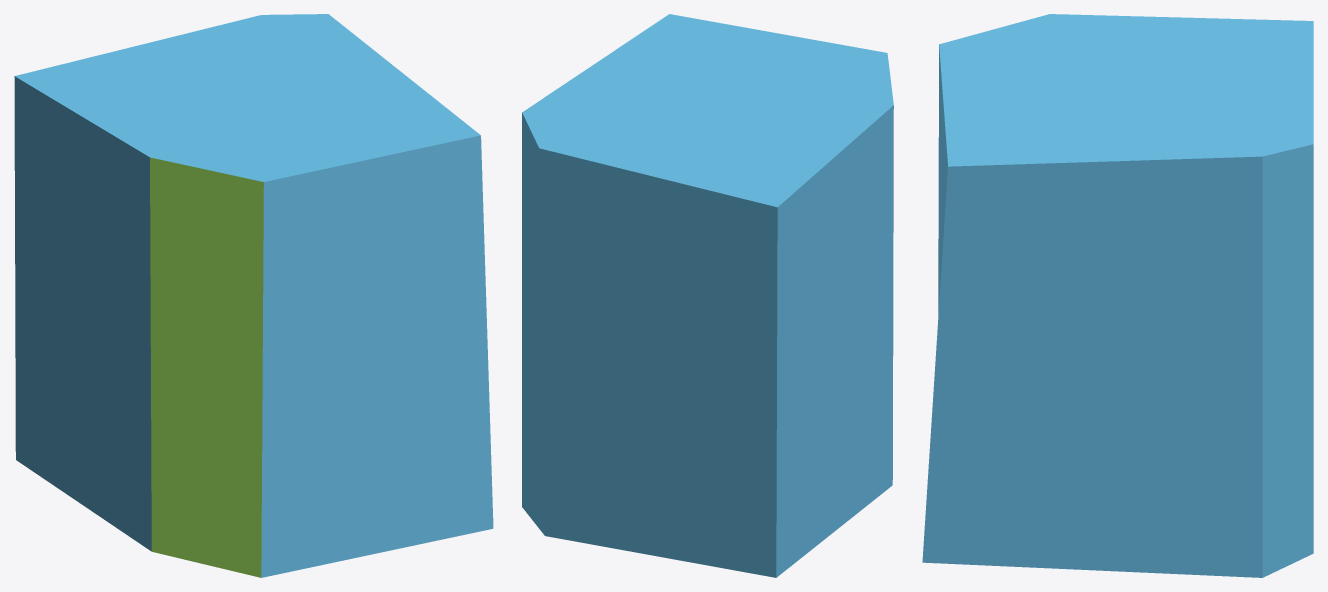
The model's file is CabinetCorner.fbx.
3 renders of one model, left to right at view 1: azimuth 30°, elevation 25°; view 2: azimuth 150°, elevation 25°; view 3: azimuth 270°, elevation 25°, orthographic. The views are drawn at different scales.
Parts seen in each view (by area): view 1: CabinetCorner; view 2: CabinetCorner; view 3: CabinetCorner.
Boxes of the visible parts, x1,y1,x2,y2 form: CabinetCorner: (14,14,493,577); CabinetCorner: (522,14,893,577); CabinetCorner: (922,14,1313,577).
Size of the model in its own units: 92.77 by 126 by 105.
